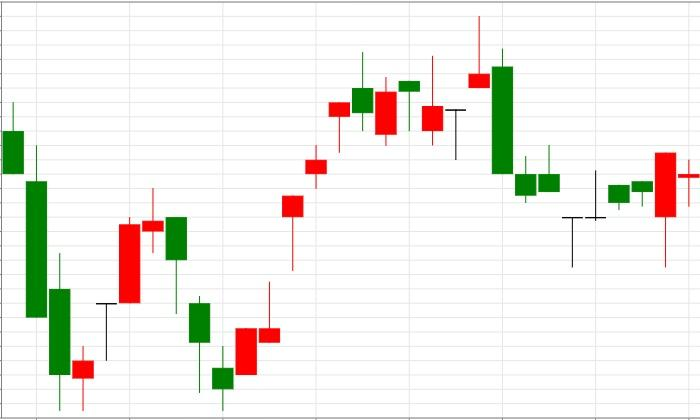shooting_star_fall: (236, 51, 373, 375)
